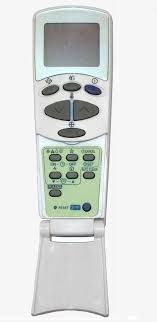remote control: (35, 10, 113, 236)
